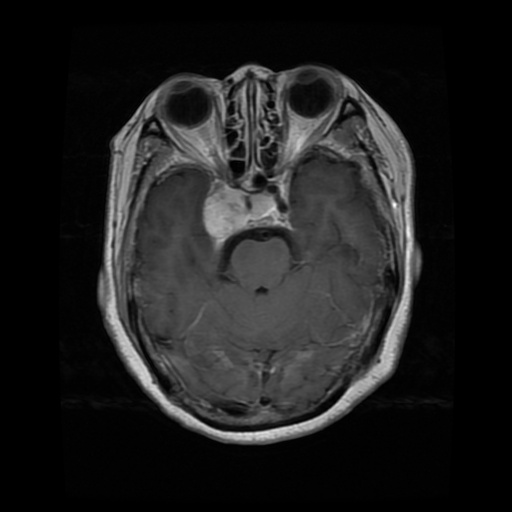meningioma: (203, 180, 248, 240)
